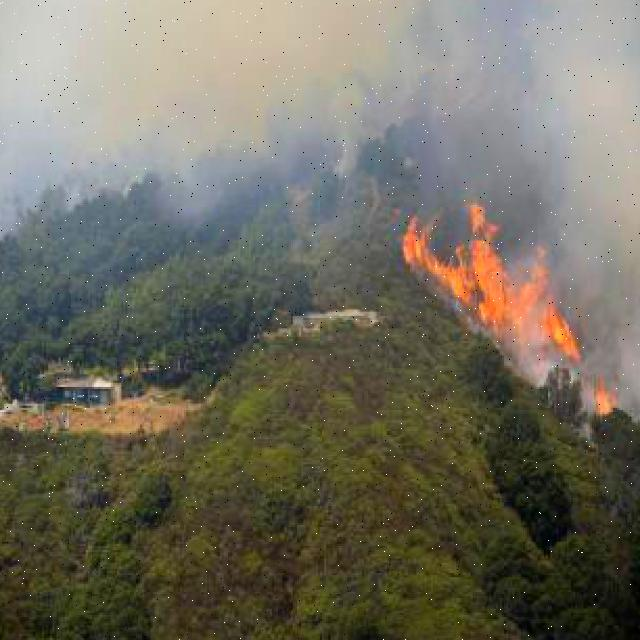fire: (402, 197, 580, 380), (592, 362, 627, 429)
smoke: (399, 0, 582, 199)
